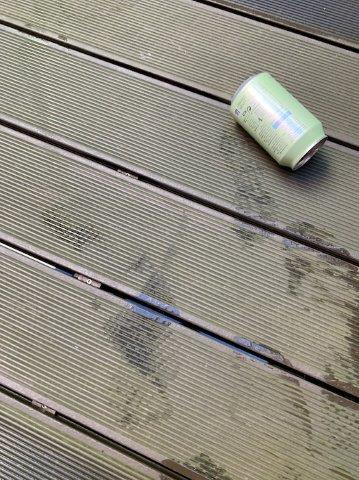kaleng: (232, 74, 324, 168)
